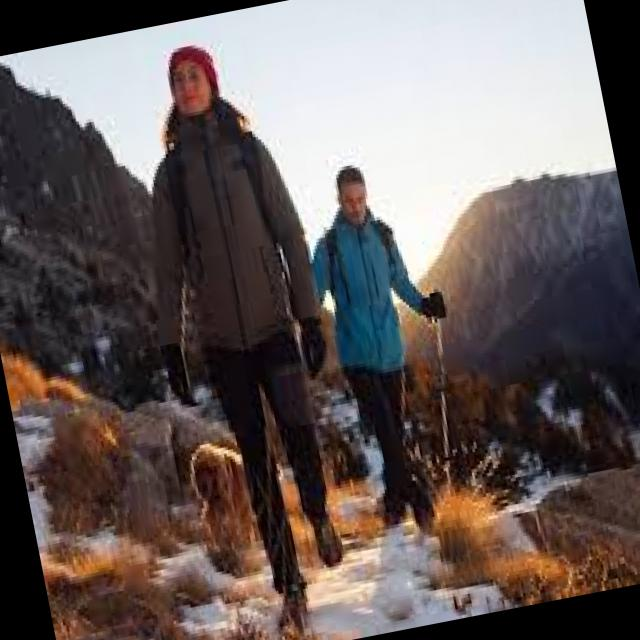Jacket: (116, 102, 342, 425), (292, 184, 462, 408)
